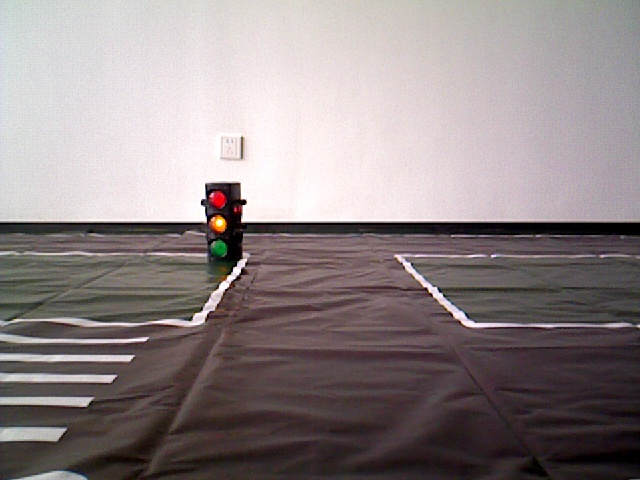yellow: (204, 183, 244, 260)
